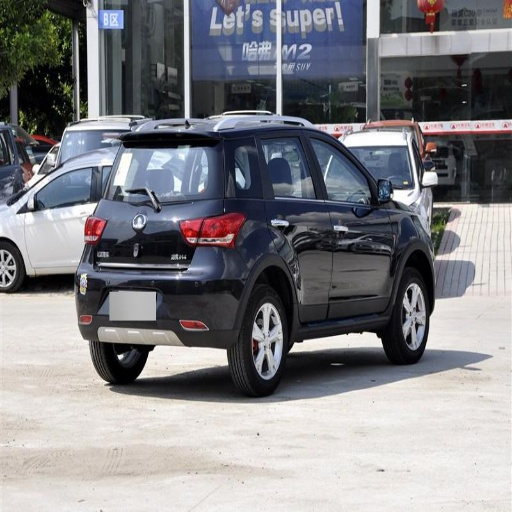back_bumper: (76, 246, 248, 344)
back_right_door: (261, 132, 332, 322)
trunk: (57, 203, 204, 268)
